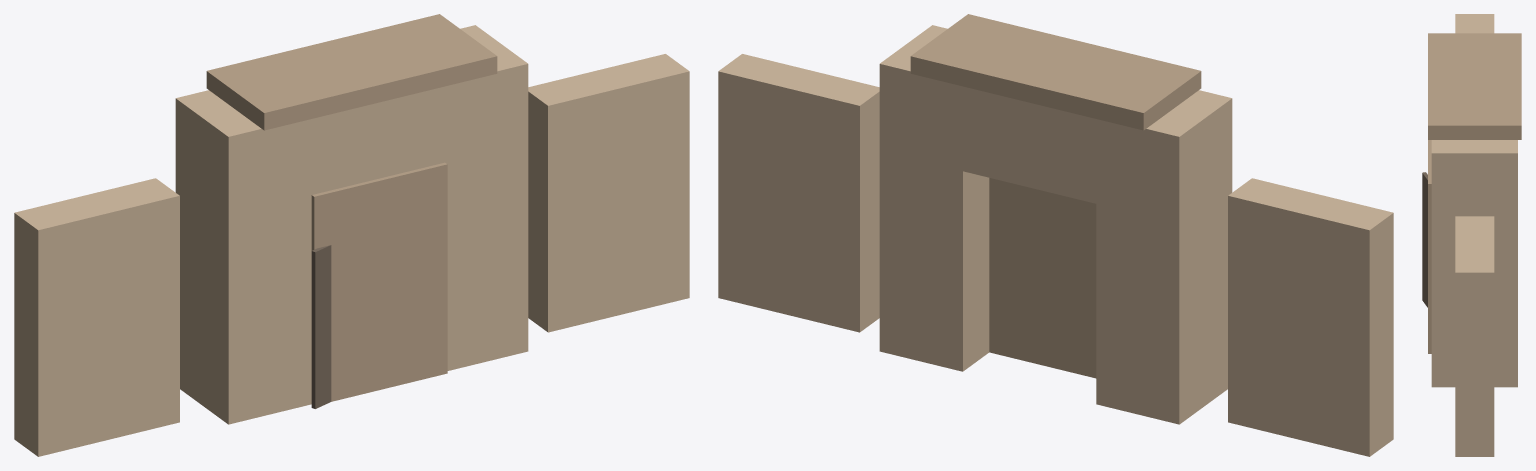
Rendered from CaravanseraiGate.glb.
3 views of the same model, side by side, from view 1: azimuth 30°, elevation 25°; view 2: azimuth 150°, elevation 25°; view 3: azimuth 270°, elevation 25° (orthographic). The views are drawn at different scales.
Visible parts, largest first — view 1: Wall run, Gate pier, Wall run.001, Portal shade, Gate pier.001, Crown, Gate arch top, Gate leaf; view 2: Wall run, Gate pier, Wall run.001, Gate pier.001, Portal shade, Crown, Gate arch top; view 3: Gate pier.001, Crown, Wall run.001, Portal shade, Wall run, Gate leaf.
Boxes of the visible parts, box(x1,y1,x2,y2) form: Wall run: box(14, 178, 179, 456); Gate pier: box(175, 90, 311, 424); Wall run.001: box(528, 54, 689, 332); Portal shade: box(311, 162, 447, 401); Gate pier.001: box(445, 25, 528, 370); Crown: box(206, 14, 497, 130); Gate arch top: box(311, 86, 444, 194); Gate leaf: box(311, 245, 331, 408); Wall run: box(1228, 178, 1393, 456); Gate pier: box(1096, 90, 1232, 424); Wall run.001: box(718, 54, 879, 332); Gate pier.001: box(879, 25, 989, 371); Portal shade: box(989, 178, 1096, 378); Crown: box(910, 14, 1201, 130); Gate arch top: box(963, 86, 1096, 203); Gate pier.001: box(1431, 140, 1517, 387); Crown: box(1428, 33, 1521, 139); Wall run.001: box(1455, 216, 1494, 456); Portal shade: box(1428, 140, 1431, 353); Wall run: box(1455, 14, 1494, 33); Gate leaf: box(1422, 172, 1427, 307).
Size of the model in its own units: 15.64 by 7 by 2.55.
